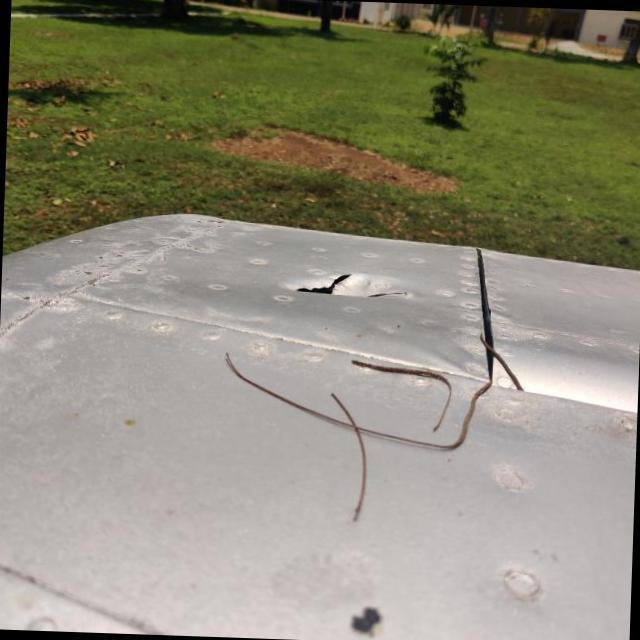Rupture: (270, 258, 420, 308)
